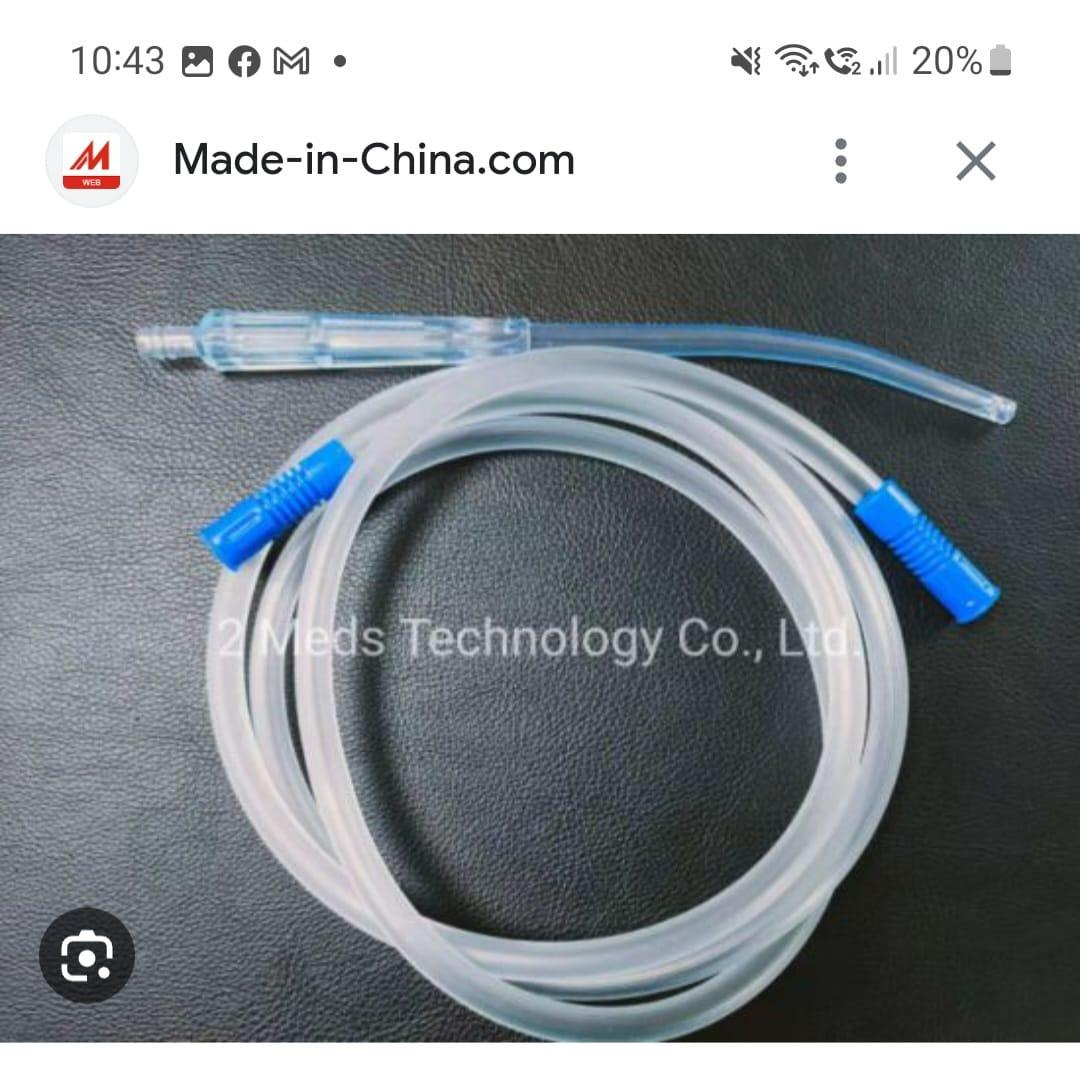Suction Tube Nozzle: (132, 300, 1023, 1038)
